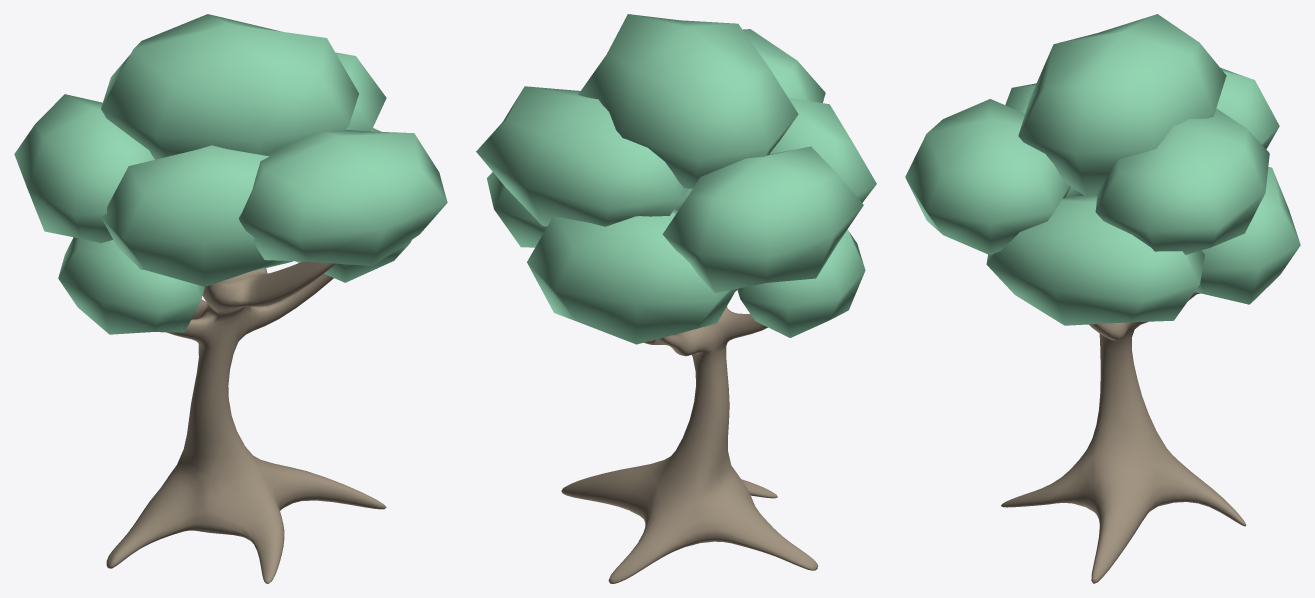
File: Baum_4.fbx
3 views of the same model, side by side, from view 1: azimuth 30°, elevation 25°; view 2: azimuth 150°, elevation 25°; view 3: azimuth 270°, elevation 25° (orthographic). The views are drawn at different scales.
Visible parts, largest first — view 1: Cube; view 2: Cube; view 3: Cube.
Part boxes in pixels (bbox=[...]): Cube: bbox=[14, 14, 447, 583]; Cube: bbox=[476, 14, 876, 583]; Cube: bbox=[905, 14, 1300, 583].
Size of the model in its own units: 734 by 987 by 722.
